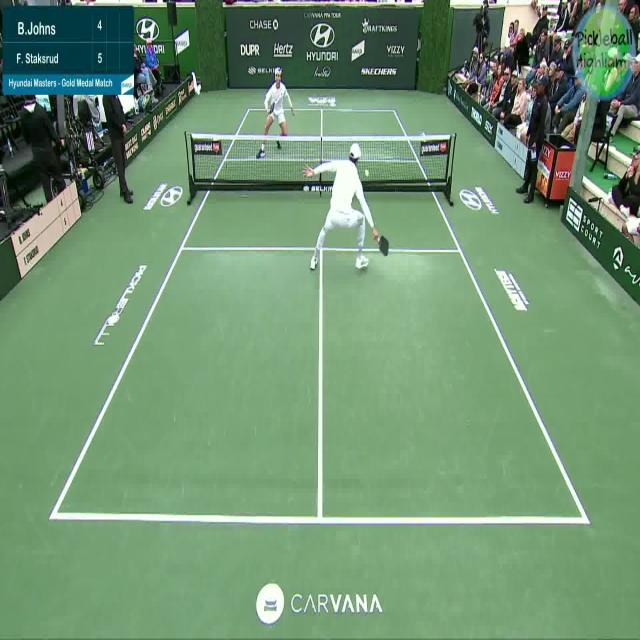ball: (363, 165, 372, 185)
